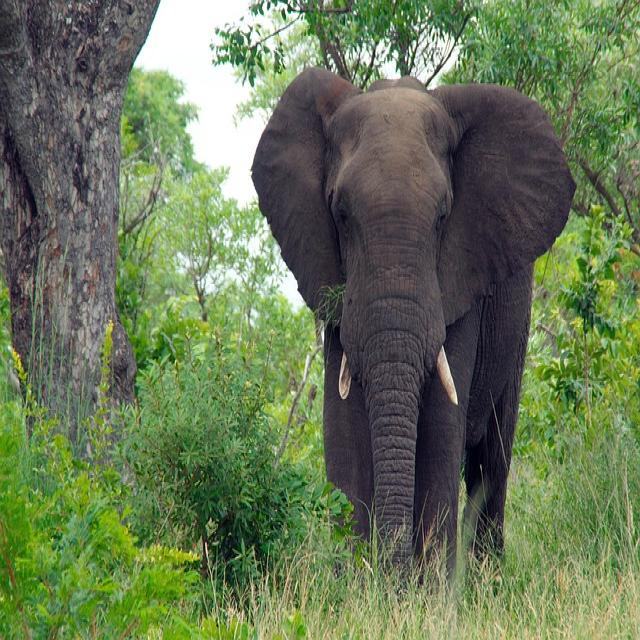elephant: (252, 69, 575, 569)
